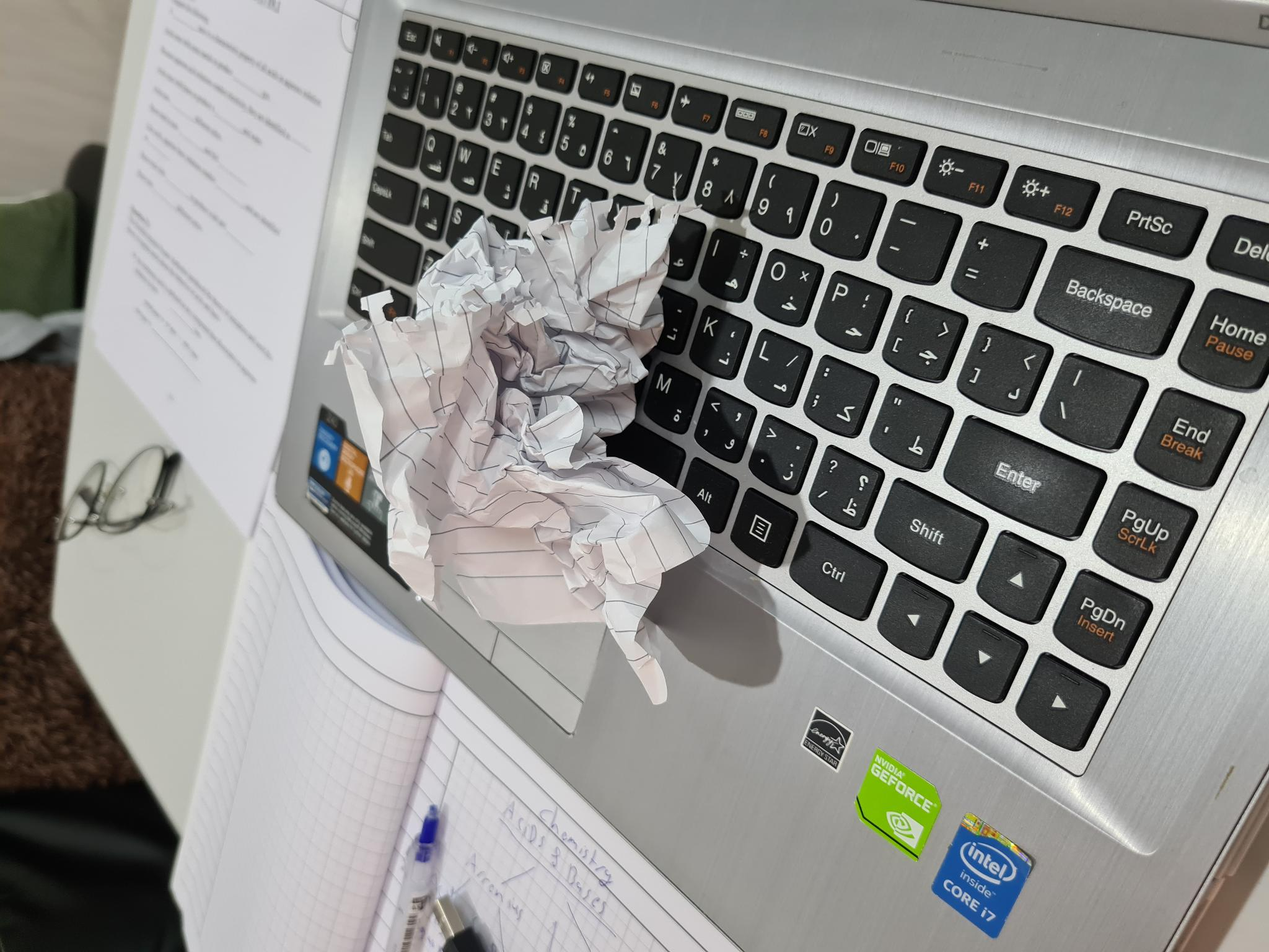Kertas: (361, 349, 691, 709)
